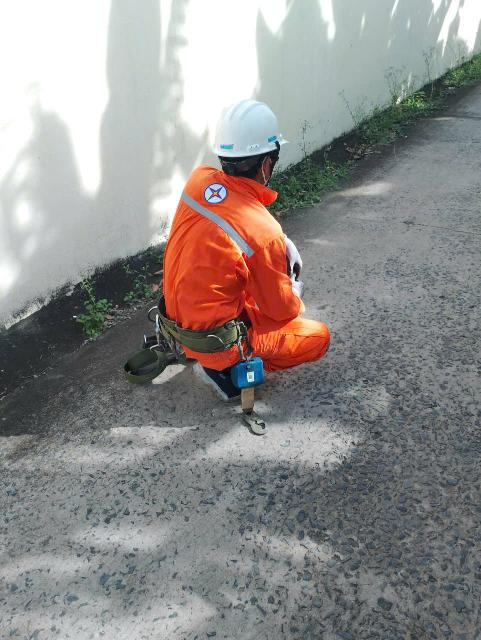gloves: (276, 228, 312, 274), (281, 271, 309, 308)
harness: (138, 290, 255, 361)
helmet: (205, 92, 302, 162)
shoes: (190, 359, 254, 407)
